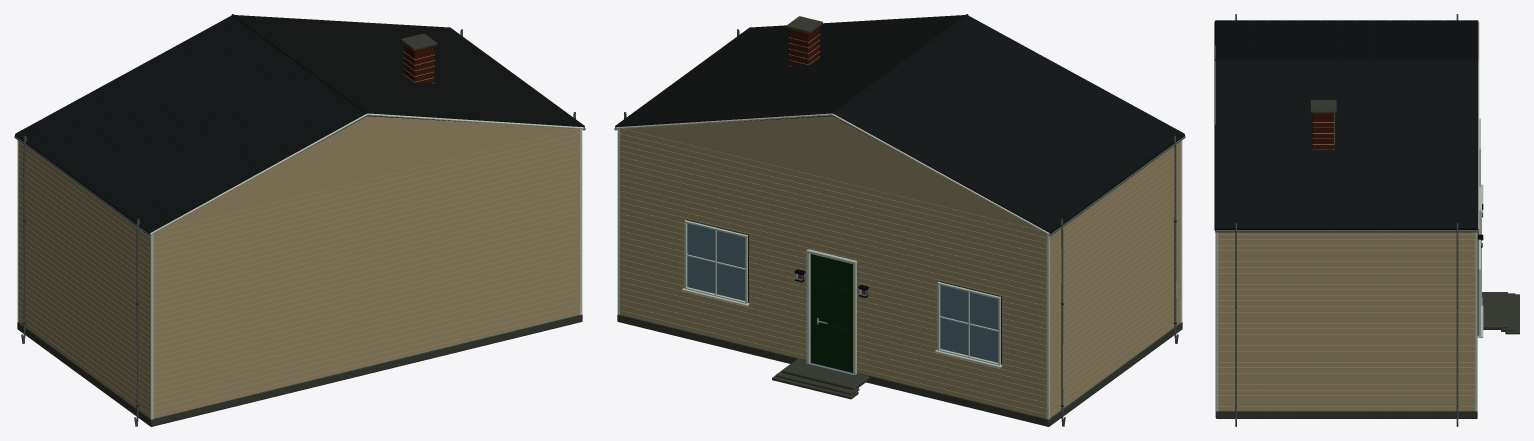
The model's file is House.gltf.
3 renders of one model, left to right at view 1: azimuth 30°, elevation 25°; view 2: azimuth 150°, elevation 25°; view 3: azimuth 270°, elevation 25°, orthographic. The views are drawn at different scales.
Parts seen in each view (by area): view 1: House__Body; view 2: House__Body, House; view 3: House__Body.
Boxes of the visible parts, x1,y1,x2,y2 form: House__Body: (14,14,585,426); House__Body: (614,14,1185,426); House: (687,223,998,362); House__Body: (1214,14,1519,426).
Size of the model in its own units: 8.48 by 4.98 by 5.16.
3 materials, 1 textured.
